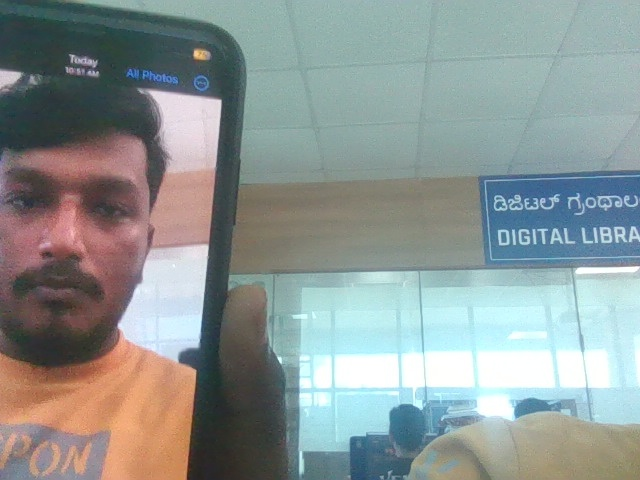fake: (0, 32, 242, 375)
